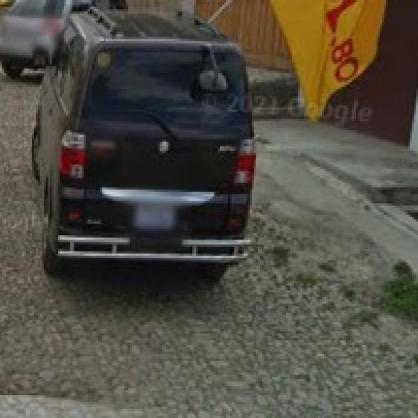car: (28, 14, 259, 282)
